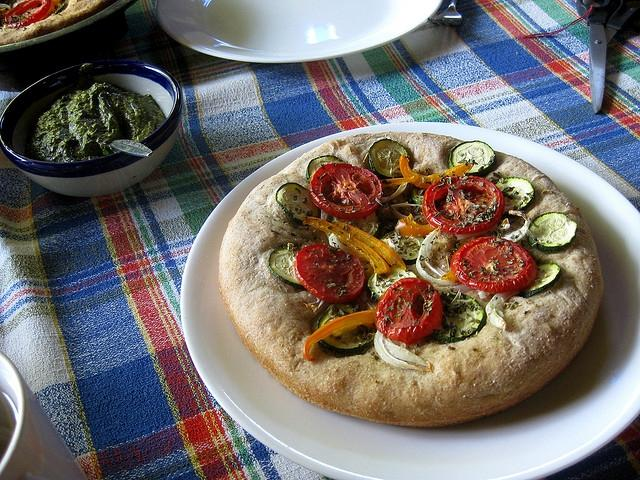bell pepper: (302, 216, 392, 274), (303, 309, 376, 362), (335, 223, 407, 270), (398, 154, 474, 188), (4, 0, 51, 29), (394, 213, 436, 237), (380, 175, 416, 189), (40, 0, 61, 20), (442, 270, 459, 284)
tomato: (450, 236, 539, 294), (423, 176, 505, 234), (376, 278, 442, 344), (294, 244, 364, 304), (308, 163, 382, 219), (4, 0, 56, 29)
